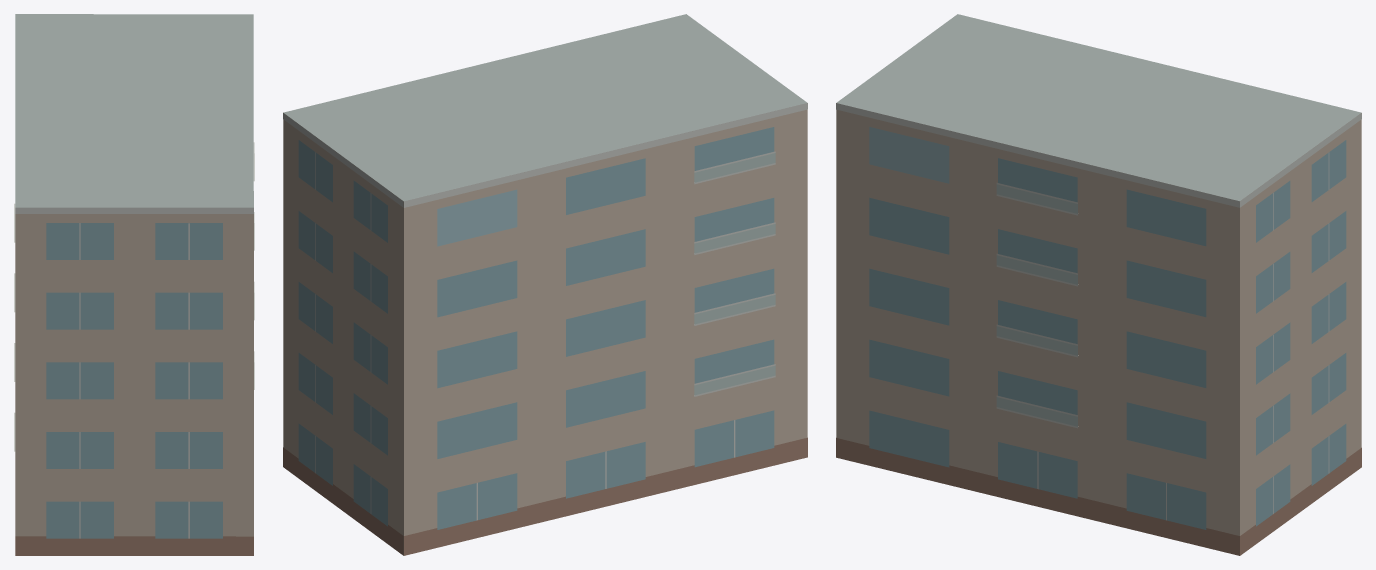
The model's file is survey-upis-32826801.glb.
3 views of the same model, side by side, from view 1: azimuth 30°, elevation 25°; view 2: azimuth 150°, elevation 25°; view 3: azimuth 270°, elevation 25° (orthographic).
Parts seen in each view (by area): view 1: survey-upis-32826801.tmp; view 2: survey-upis-32826801.tmp; view 3: survey-upis-32826801.tmp.
Part boxes in pixels (bbox=[...]): survey-upis-32826801.tmp: bbox=[14, 14, 254, 555]; survey-upis-32826801.tmp: bbox=[283, 14, 807, 555]; survey-upis-32826801.tmp: bbox=[836, 14, 1361, 555].
Bounding box in the file's own units: 14.96 × 13.2 × 17.74.
